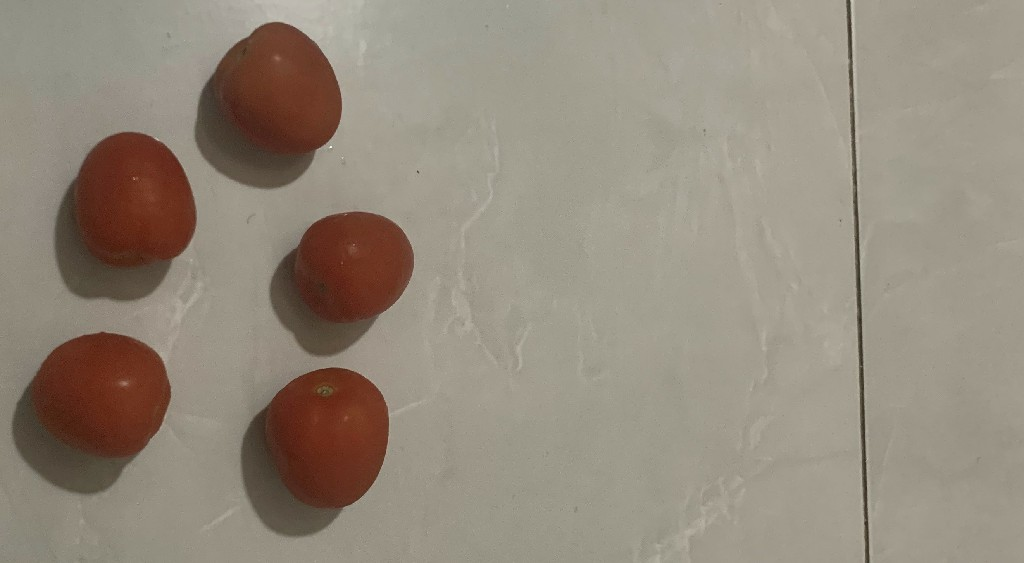OK: (264, 360, 397, 514), (205, 19, 347, 159), (68, 131, 196, 271), (39, 328, 172, 455), (293, 205, 411, 327)
